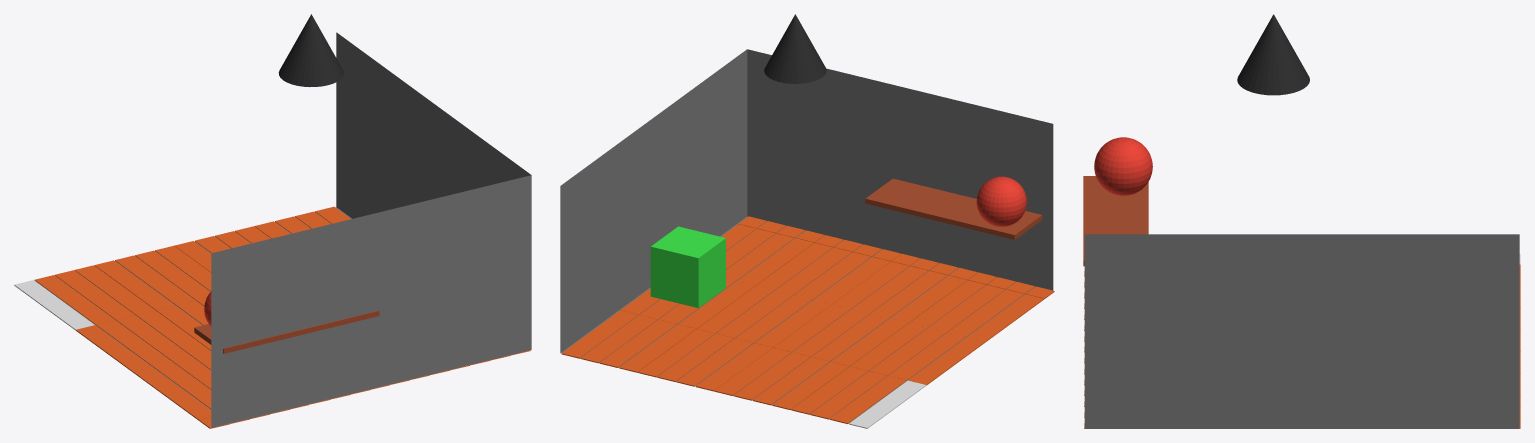
3 renders of one model, left to right at view 1: azimuth 30°, elevation 25°; view 2: azimuth 150°, elevation 25°; view 3: azimuth 270°, elevation 25°, orthographic. The views are drawn at different scales.
Visible parts, largest first — view 1: Plane, Cone, Cube.060, Cube.061, Cube.062, Cube.040, Cube.048, Cube.052, Cube.044, Cube.056, Cube.057, Cube.053 (+8 smaller); view 2: Plane, Cube.064, Cube.065, Cone, Sphere, Cube.060, Cube.061, Cube.062, Cube, Cube.012, Cube.020, Cube.036 (+39 smaller); view 3: Plane, Cone, Cube.065, Sphere.
Part boxes in pixels (x1,y1,x2,y2): Plane: (35, 32, 531, 427); Cone: (278, 14, 343, 87); Cube.060: (14, 280, 94, 330); Cube.061: (76, 325, 156, 375); Cube.062: (137, 370, 211, 420); Cube.040: (115, 255, 195, 305); Cube.048: (74, 265, 154, 314); Cube.052: (54, 270, 134, 319); Cube.044: (94, 260, 174, 310); Cube.056: (34, 275, 114, 324); Cube.057: (96, 320, 176, 369); Cube.053: (116, 315, 196, 365); Plane: (560, 49, 1053, 423); Cube.064: (650, 226, 725, 307); Cube.065: (865, 178, 1042, 239); Cone: (764, 14, 826, 83); Sphere: (976, 176, 1026, 226); Cube.060: (849, 380, 926, 428); Cube.061: (908, 337, 985, 385); Cube.062: (967, 294, 1043, 342); Cube: (561, 310, 638, 358); Cube.012: (619, 324, 696, 372); Cube.020: (657, 333, 734, 381); Cube.036: (733, 352, 810, 400); Plane: (1084, 234, 1519, 428); Cone: (1237, 14, 1309, 95); Cube.065: (1083, 176, 1148, 266); Sphere: (1094, 137, 1152, 195).
Bounding box in the file's own units: 1.9 × 1.74 × 2.01.
